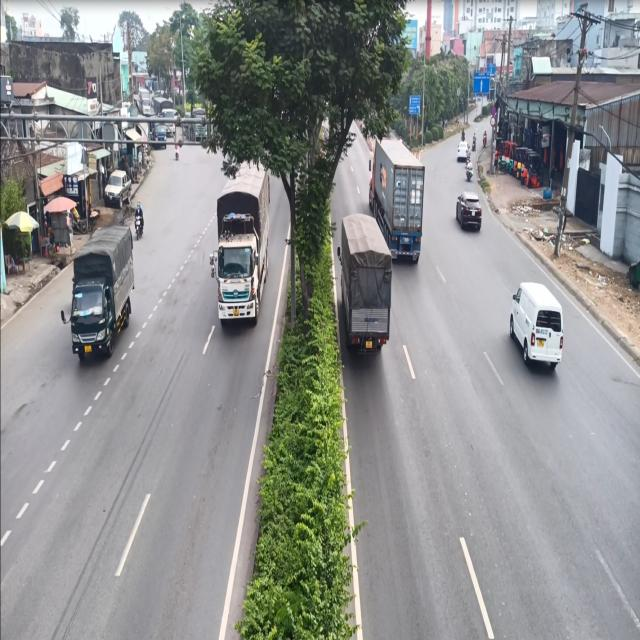car: (507, 271, 565, 386), (454, 185, 486, 242)
motor: (130, 195, 146, 239)
truck: (61, 228, 135, 388), (211, 152, 273, 342), (334, 212, 392, 356), (370, 137, 430, 270)
